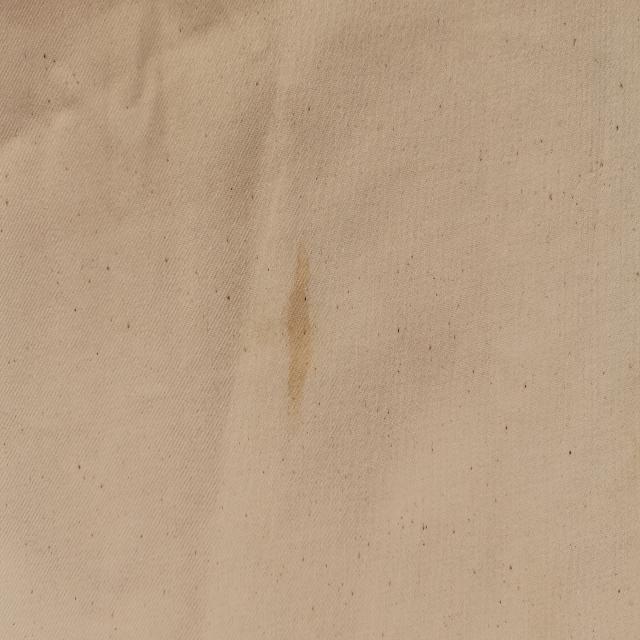taaaches: (262, 214, 332, 427)
